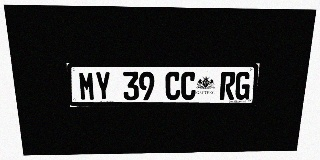3: (123, 72, 139, 100)
9: (139, 72, 154, 100)
C: (165, 72, 181, 100), (181, 72, 196, 100)
G: (234, 72, 251, 100)
M: (78, 71, 96, 101)
R: (219, 72, 236, 100)
Y: (95, 71, 111, 101)
